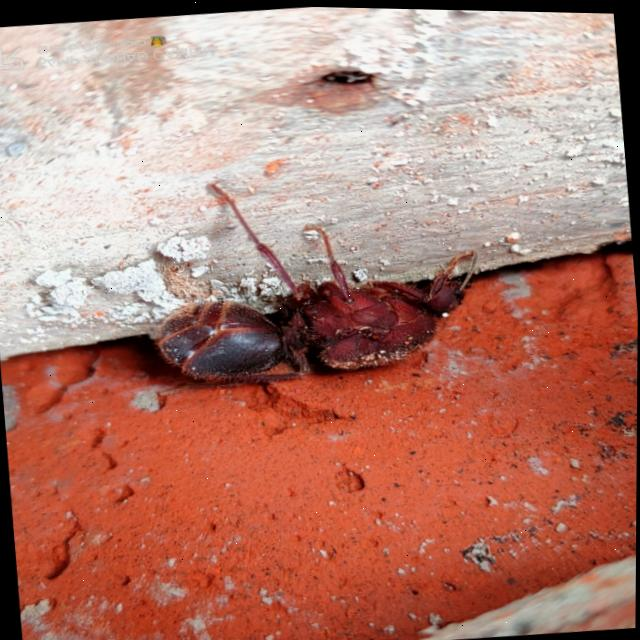Alive-Female-Dealate: (143, 158, 490, 396)
